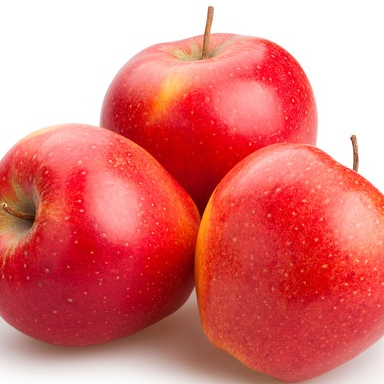apple: (99, 3, 319, 213), (1, 124, 202, 348), (195, 145, 383, 384)
